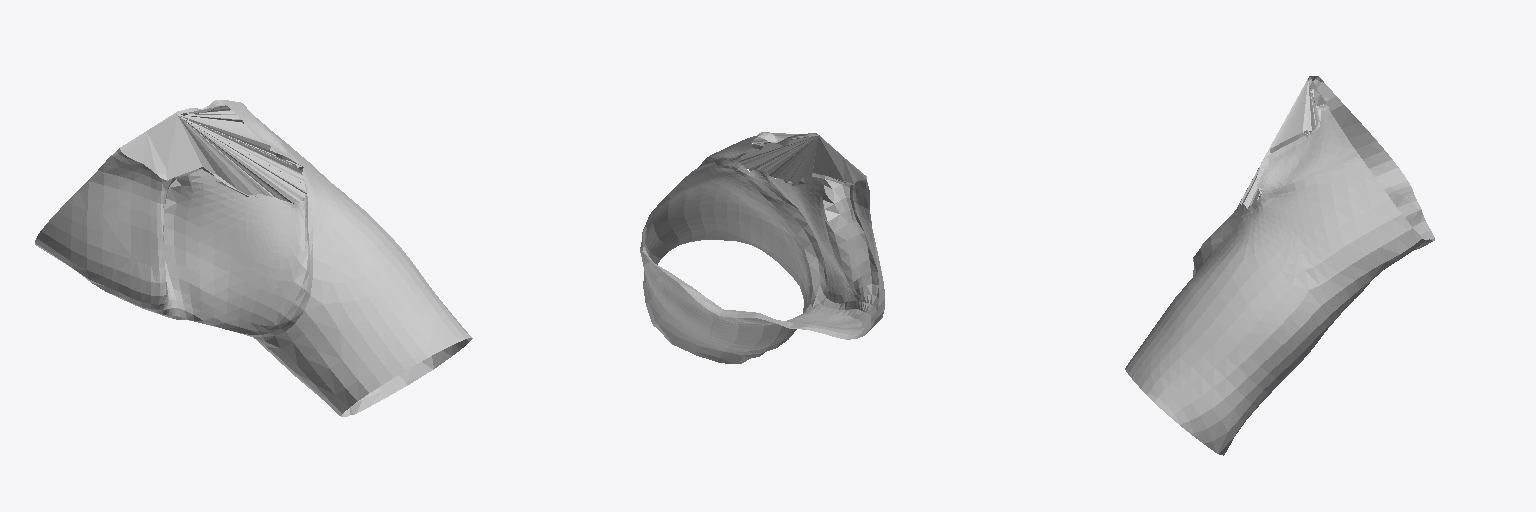
Rendered from jambe_droite.obj.
3 renders of one model, left to right at view 1: azimuth 30°, elevation 25°; view 2: azimuth 150°, elevation 25°; view 3: azimuth 270°, elevation 25°, orthographic.
Parts seen in each view (by area): view 1: 15548_French_Horseman_v1.008; view 2: 15548_French_Horseman_v1.008; view 3: 15548_French_Horseman_v1.008.
Part boxes in pixels (x1,y1,x2,y2): 15548_French_Horseman_v1.008: (35,100,472,416); 15548_French_Horseman_v1.008: (640,132,884,363); 15548_French_Horseman_v1.008: (1125,76,1434,455).
Size of the model in its own units: 1.88 by 1.64 by 1.54.